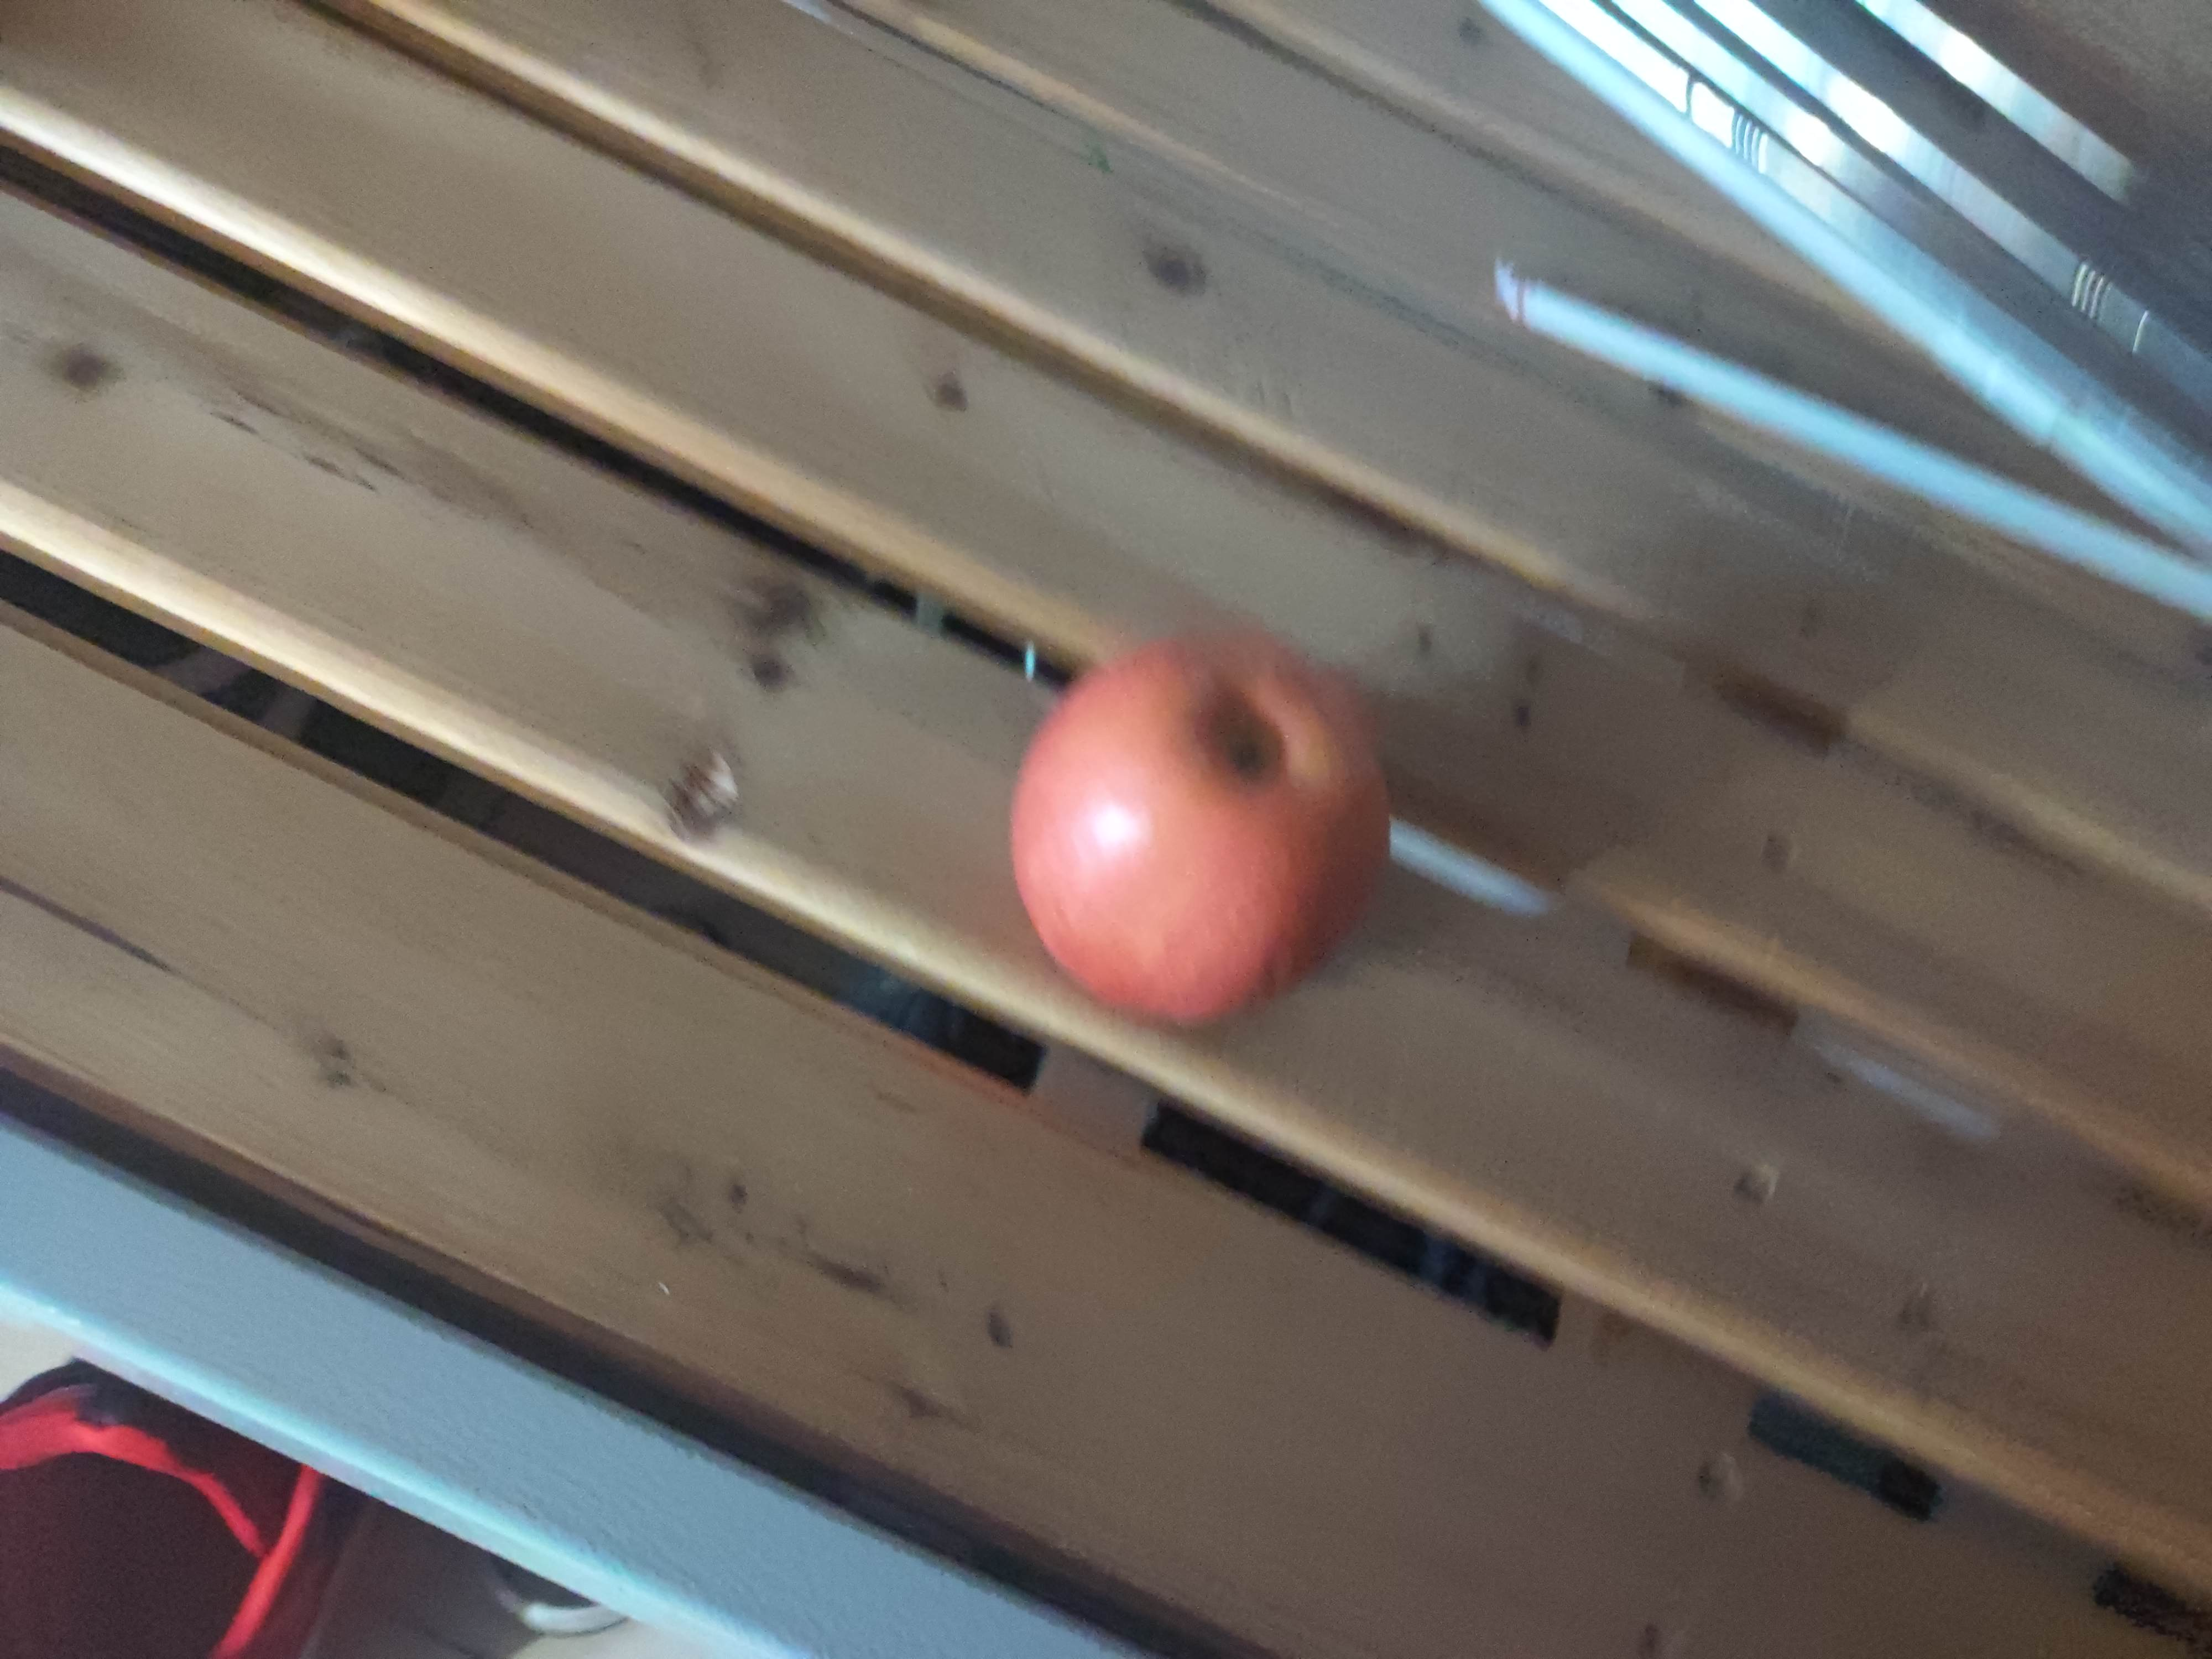apple: (1012, 629, 1392, 1030)
